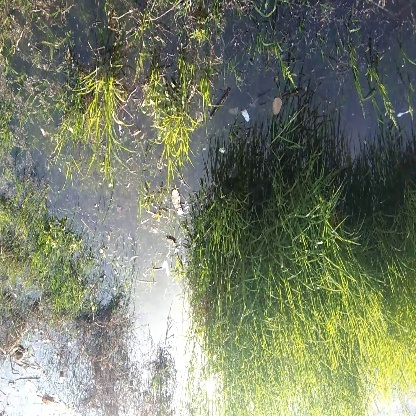grass: (64, 70, 120, 160)
